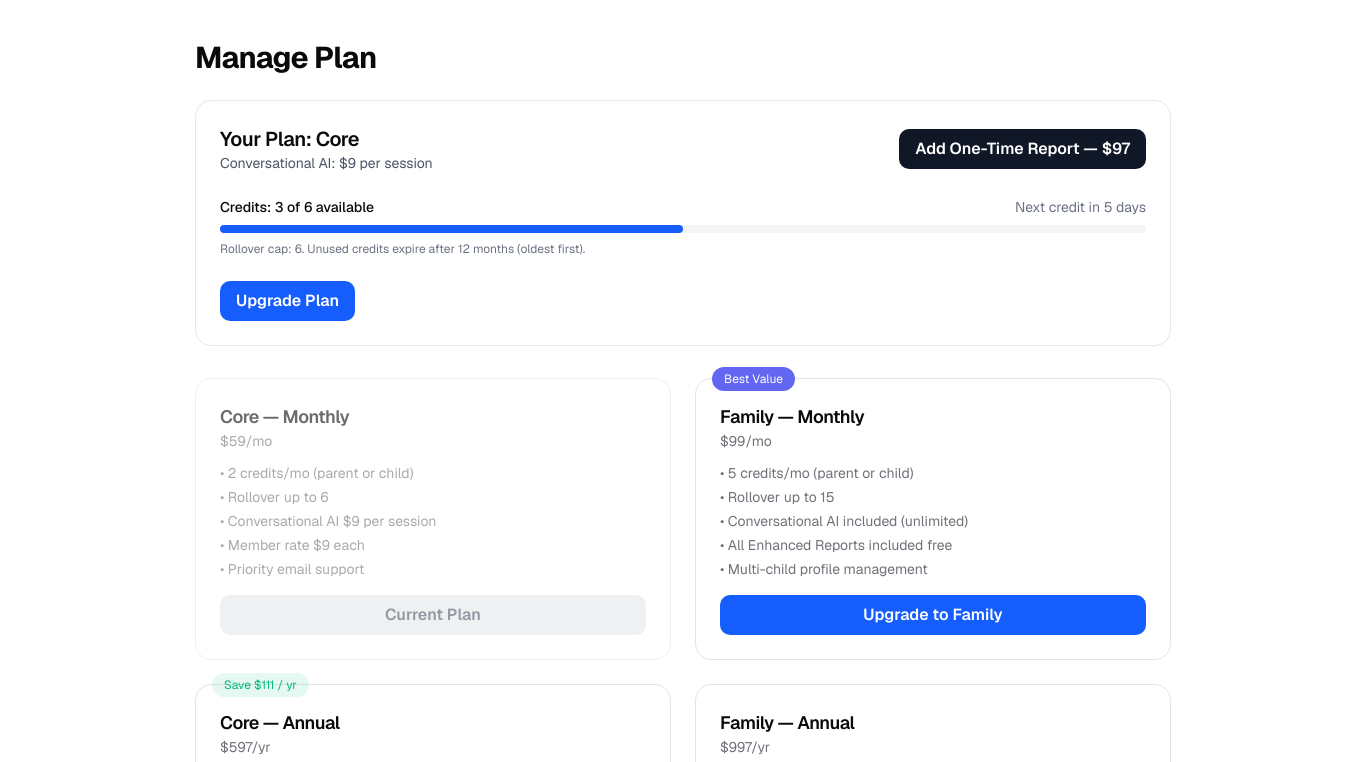
it: UpgradePlan event tracking and accessibility › modal is keyboard accessible and can be closed
Click the button "Upgrade to Family" at (933,615), box x1=720 y1=595 x2=1146 y2=635
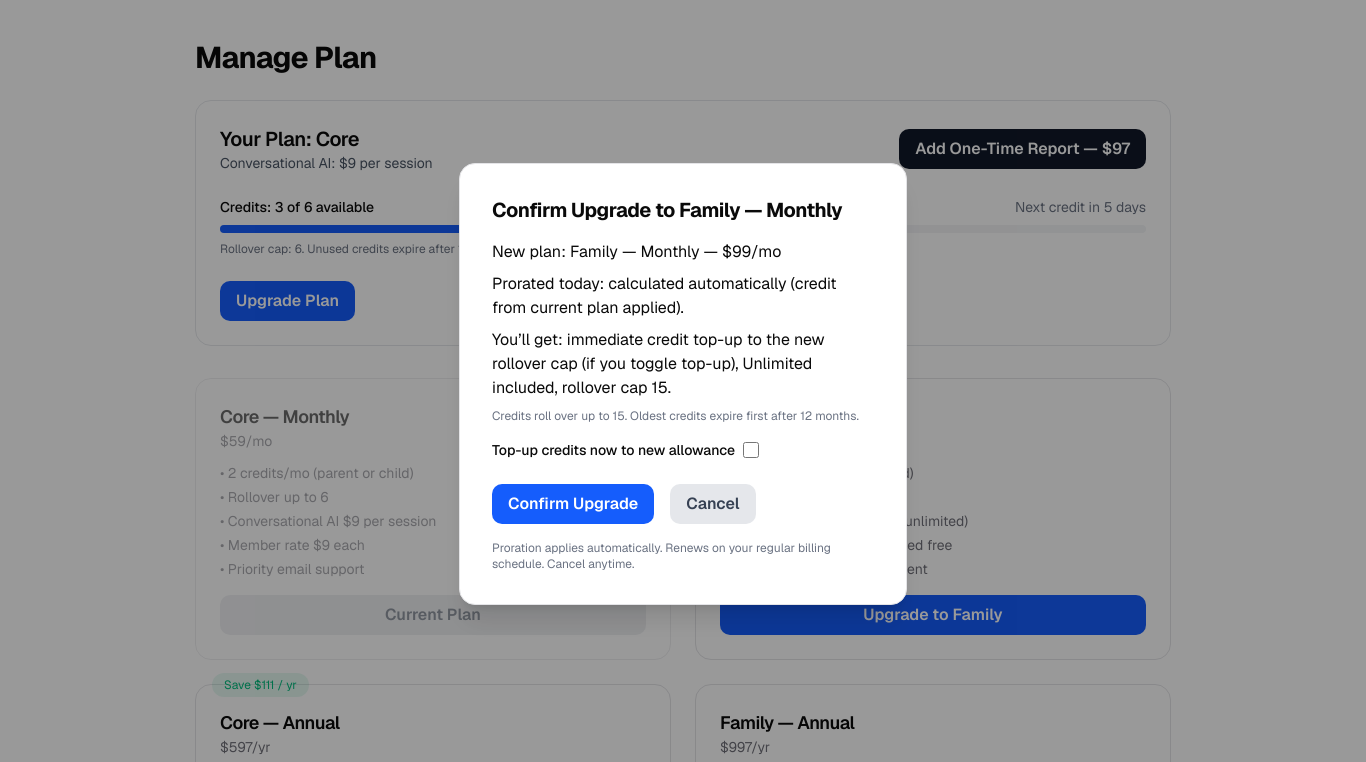
Note: Find the button element (not paragraph)
Click the button "Cancel" at (713,504), box x1=670 y1=484 x2=756 y2=524
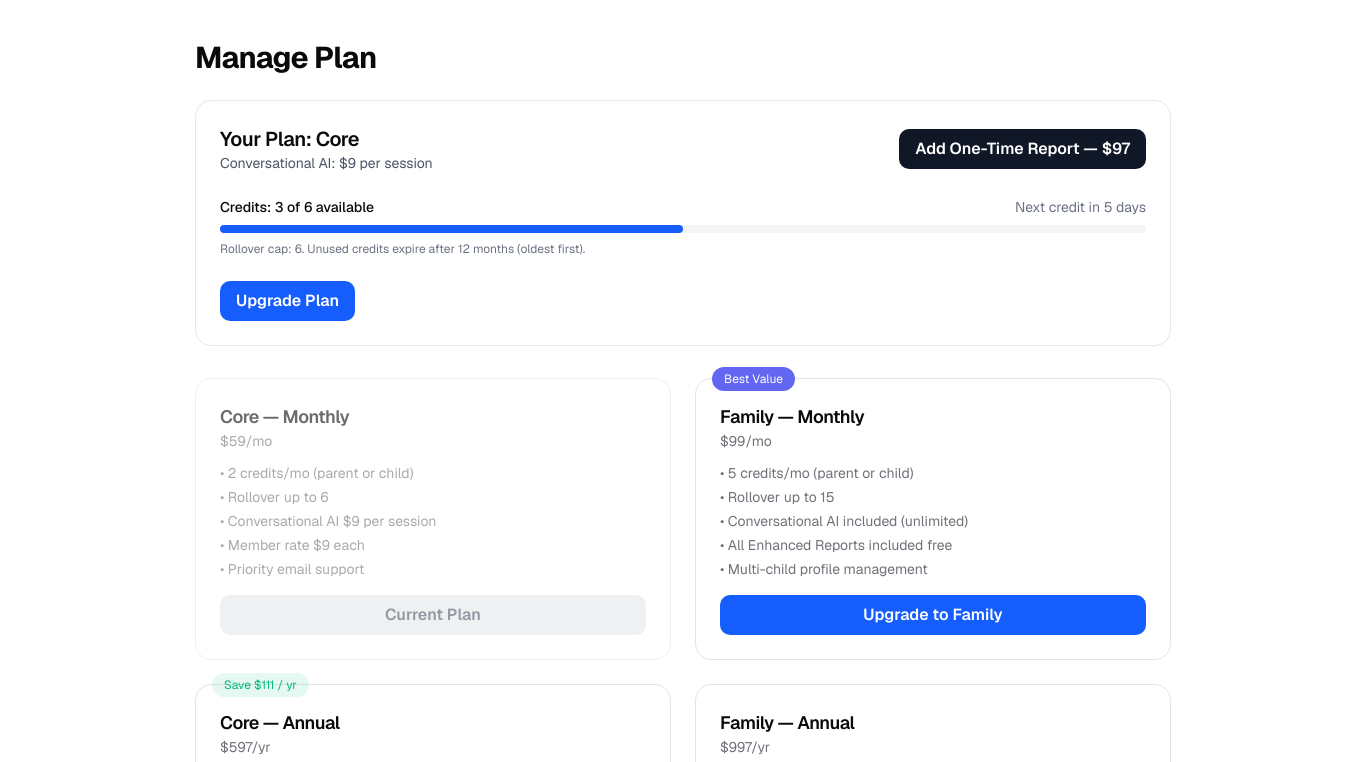
Expected: the heading "Confirm Upgrade" is gone
